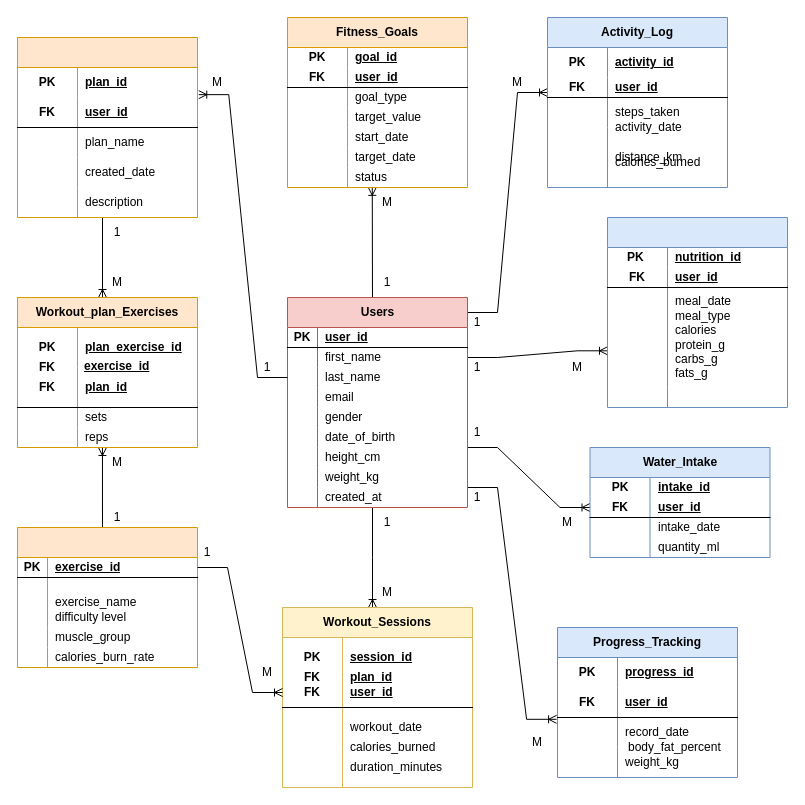
This 805x805 diagram has some shape labels left out. Each missing label, with the box of its shape:
Exercises: (16, 526, 198, 668)
Nutrition_Log: (606, 216, 788, 408)
Workout_Plans: (16, 36, 198, 218)
